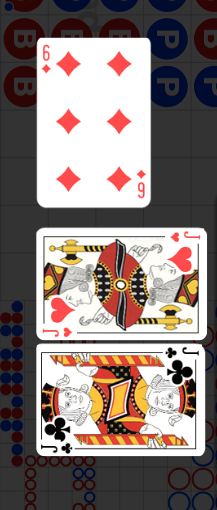6D: (41, 43, 53, 75), (136, 168, 147, 199)
JC: (163, 344, 200, 360)
